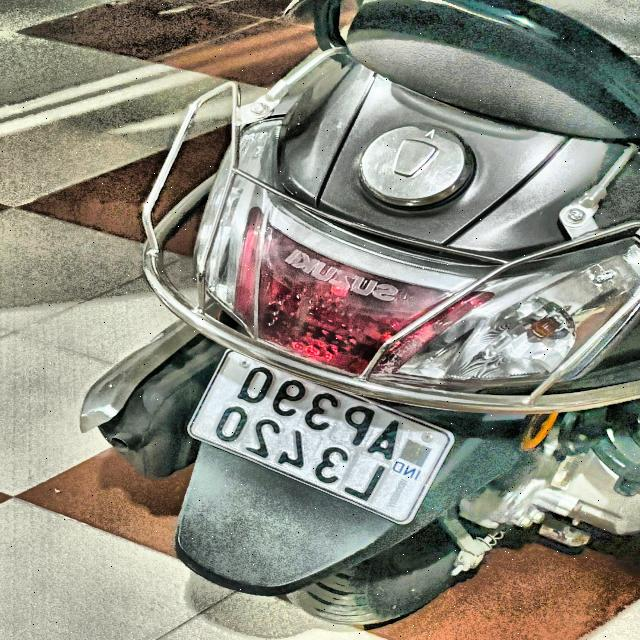license-plate: (181, 350, 445, 528)
